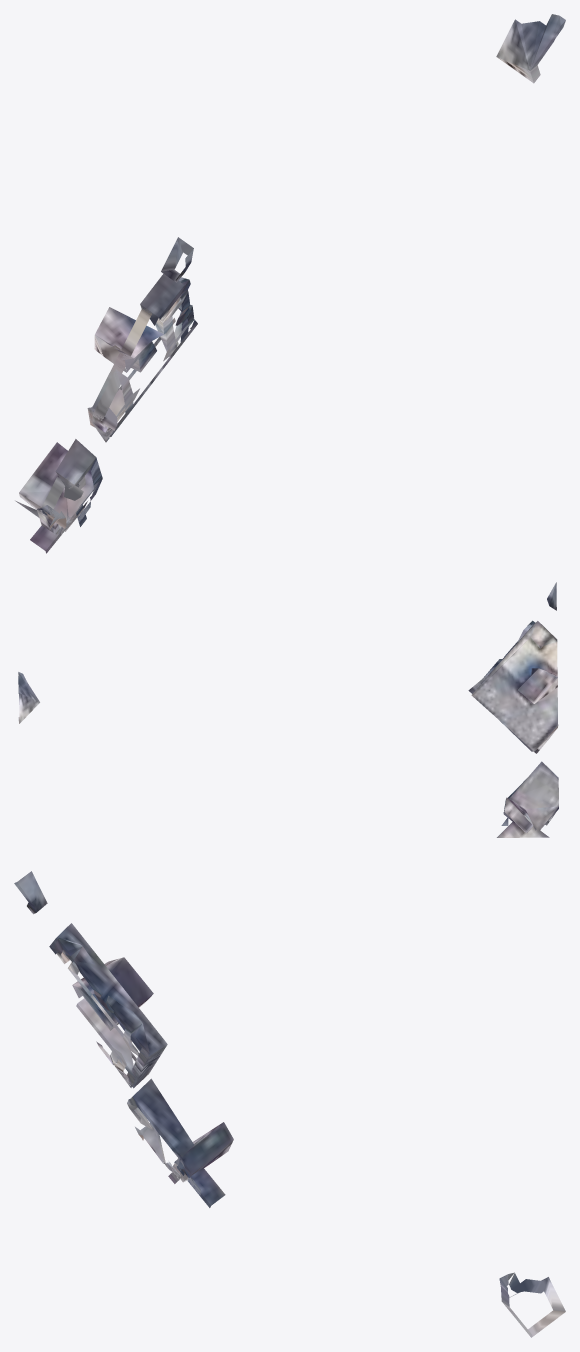
3 views of the same model, one above another, from view 1: azimuth 30°, elevation 25°; view 2: azimuth 150°, elevation 25°; view 3: azimuth 270°, elevation 25° (orthographic). The views are drawn at different scales.
Bounding box in the file's own units: 128 × 61.91 × 91.33.
Materials: 1 (1 with a texture image).
